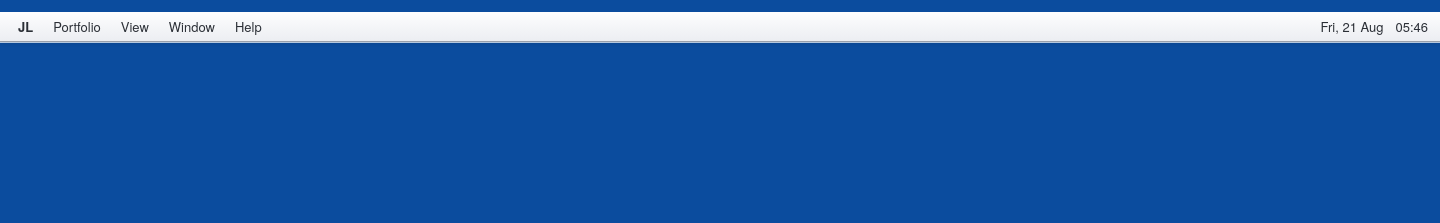
Test: MenuBar › opens a menu on click
The width and height of the screenshot is (1440, 223).
Click the button "Portfolio": (77, 26) [43,12,111,41]
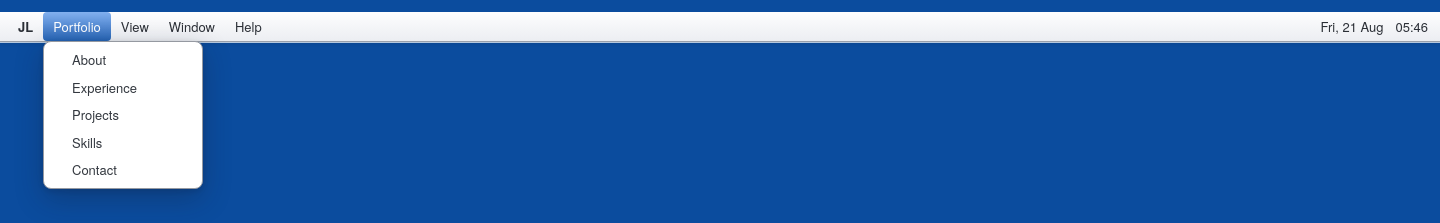
Expected: the menu item "Experience" is shown, [72,78,137,96]
